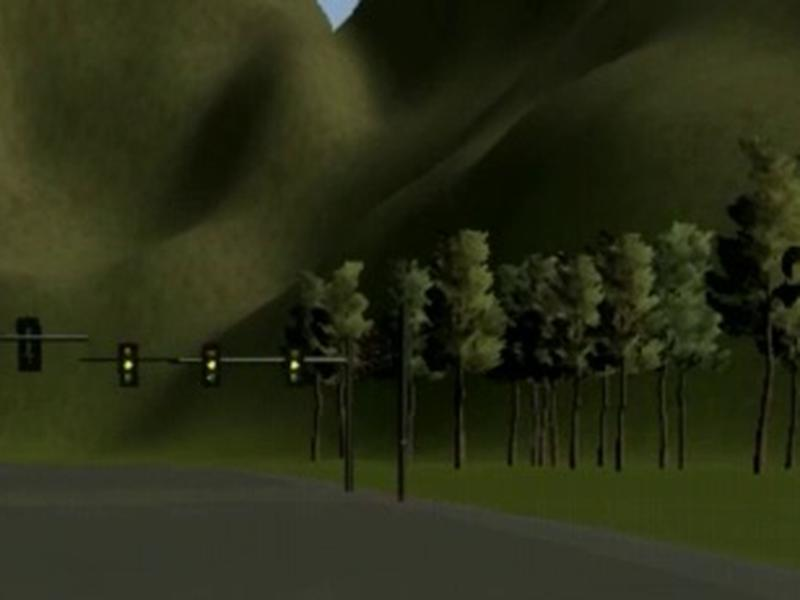Yellow: (203, 343, 221, 387), (119, 343, 137, 387), (286, 348, 302, 387)
